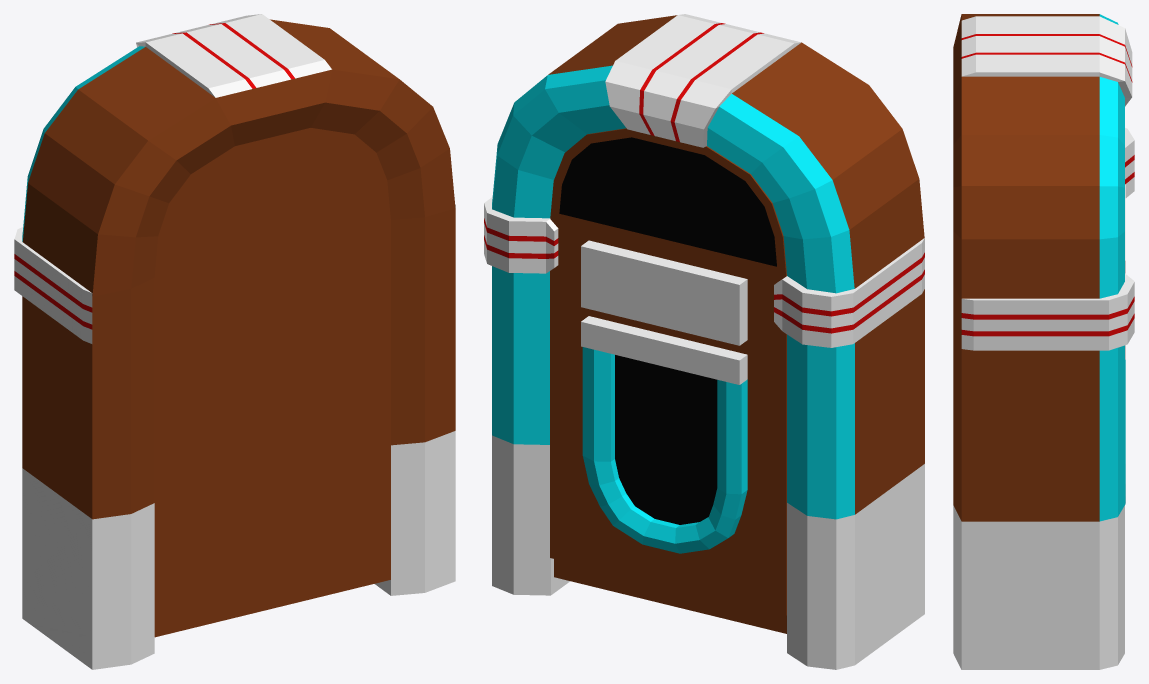
Rendered from prop_jukebox.fbx.
The picture shows the model from 3 angles, left to right: view 1: azimuth 30°, elevation 25°; view 2: azimuth 150°, elevation 25°; view 3: azimuth 270°, elevation 25°; orthographic projection.
Visible parts, largest first — view 1: Cube.002; view 2: Cube.002; view 3: Cube.002.
Part boxes in pixels (x1=…): Cube.002: x1=14, y1=14, x2=455, y2=669; Cube.002: x1=484, y1=14, x2=924, y2=669; Cube.002: x1=953, y1=14, x2=1134, y2=669.
Size of the model in its own units: 187 by 265 by 80.94.
